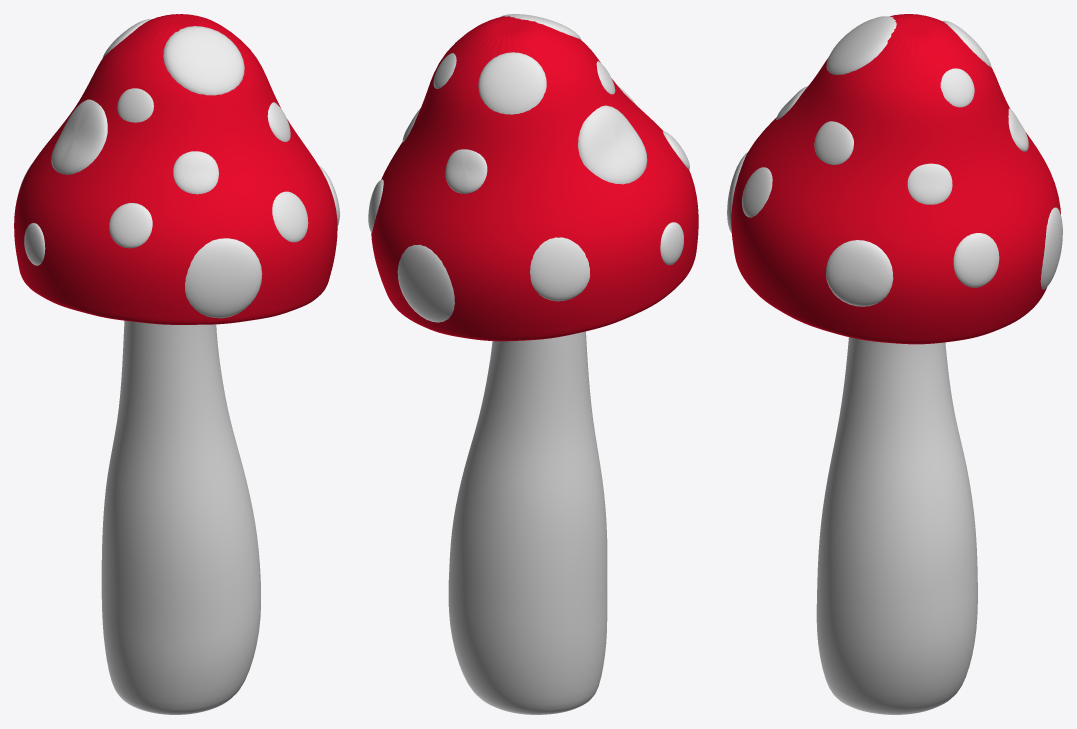
The picture shows the model from 3 angles, left to right: view 1: azimuth 30°, elevation 25°; view 2: azimuth 150°, elevation 25°; view 3: azimuth 270°, elevation 25°; orthographic projection. The views are drawn at different scales.
Visible parts, largest first — view 1: Tall_Mushroom_Cylinder; view 2: Tall_Mushroom_Cylinder; view 3: Tall_Mushroom_Cylinder.
Boxes of the visible parts, x1=… form: Tall_Mushroom_Cylinder: x1=14, y1=14, x2=339, y2=714; Tall_Mushroom_Cylinder: x1=368, y1=14, x2=698, y2=714; Tall_Mushroom_Cylinder: x1=727, y1=14, x2=1062, y2=714.
Size of the model in its own units: 483 by 1072 by 481.
